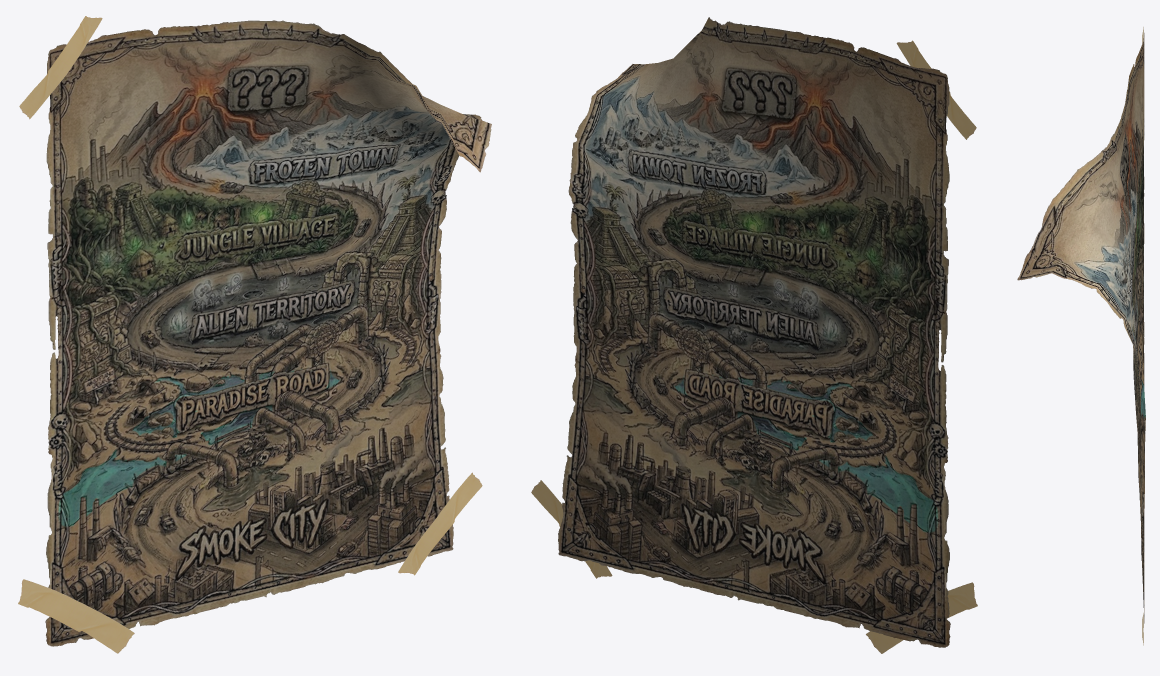
The model's file is Map.fbx.
3 renders of one model, left to right at view 1: azimuth 30°, elevation 25°; view 2: azimuth 150°, elevation 25°; view 3: azimuth 270°, elevation 25°, orthographic. The views are drawn at different scales.
Visible parts, largest first — view 1: Plane001; view 2: Plane001; view 3: Plane001.
Part boxes in pixels (left/top/right/bottom): Plane001: left=18, top=16, right=491, bottom=653; Plane001: left=531, top=17, right=977, bottom=653; Plane001: left=1017, top=27, right=1145, bottom=645.
Size of the model in its own units: 56.41 by 17.59 by 74.62.
1 material, 1 textured.
